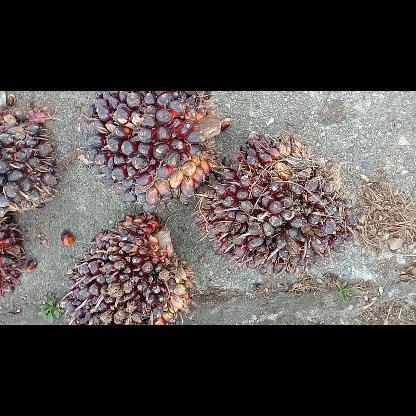TBS mentah: (192, 130, 354, 272), (76, 93, 230, 215), (62, 210, 192, 324), (0, 105, 59, 217)
